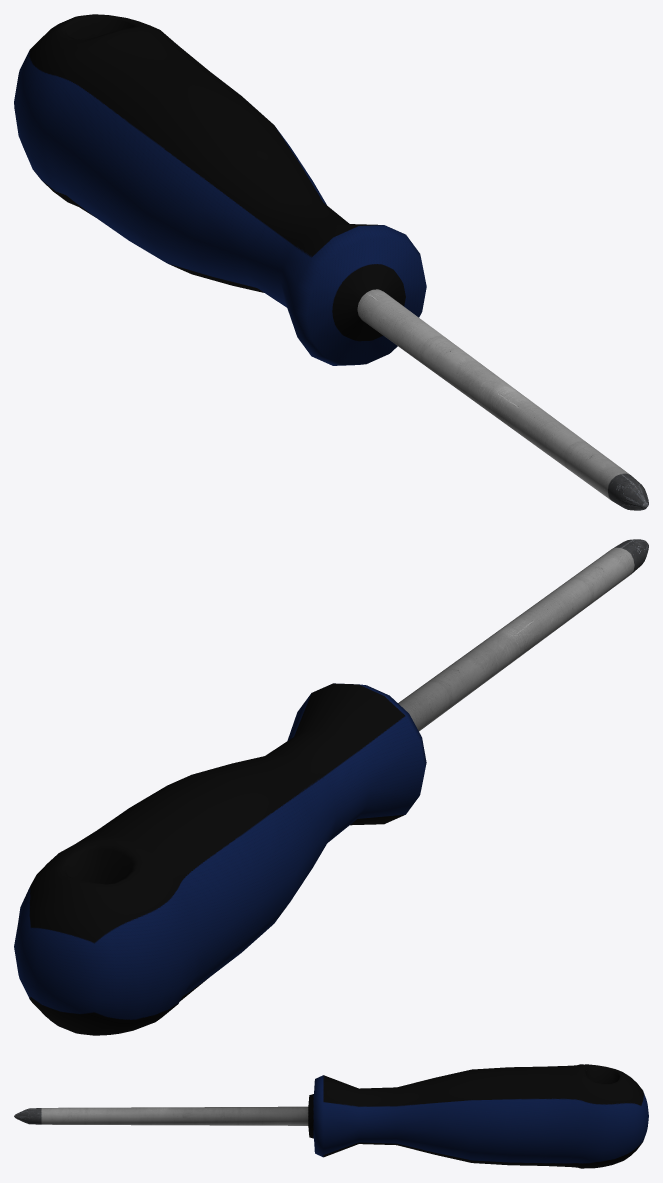
Rendered from Screwdriver.fbx.
3 renders of one model, top to bottom at view 1: azimuth 30°, elevation 25°; view 2: azimuth 150°, elevation 25°; view 3: azimuth 270°, elevation 25°, orthographic. The views are drawn at different scales.
Parts seen in each view (by area): view 1: Screwdriver_lp; view 2: Screwdriver_lp; view 3: Screwdriver_lp.
Boxes of the visible parts, x1=… form: Screwdriver_lp: x1=14, y1=14, x2=648, y2=510; Screwdriver_lp: x1=14, y1=539, x2=648, y2=1035; Screwdriver_lp: x1=14, y1=1064, x2=648, y2=1168.
Size of the model in its own units: 4.27 by 4.56 by 27.53.
